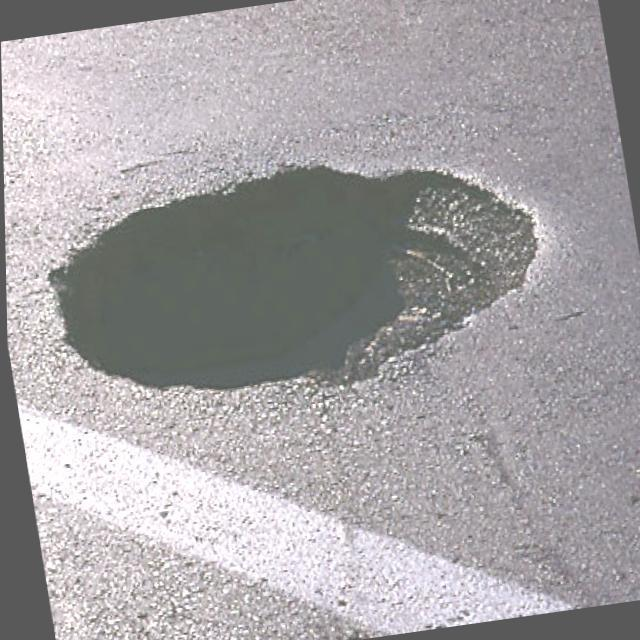Pothole: (50, 157, 532, 396)
